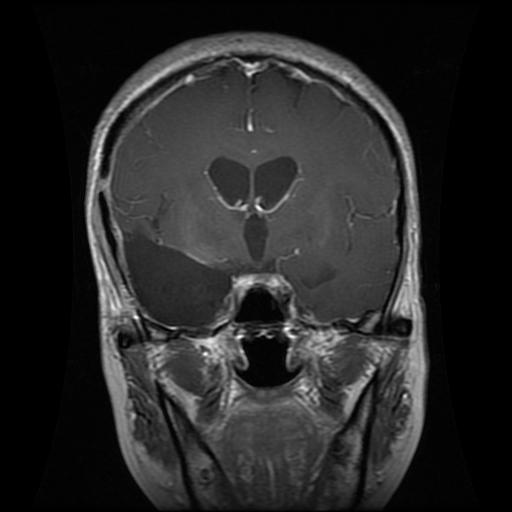Gliomia_tumour: (125, 224, 231, 324)
